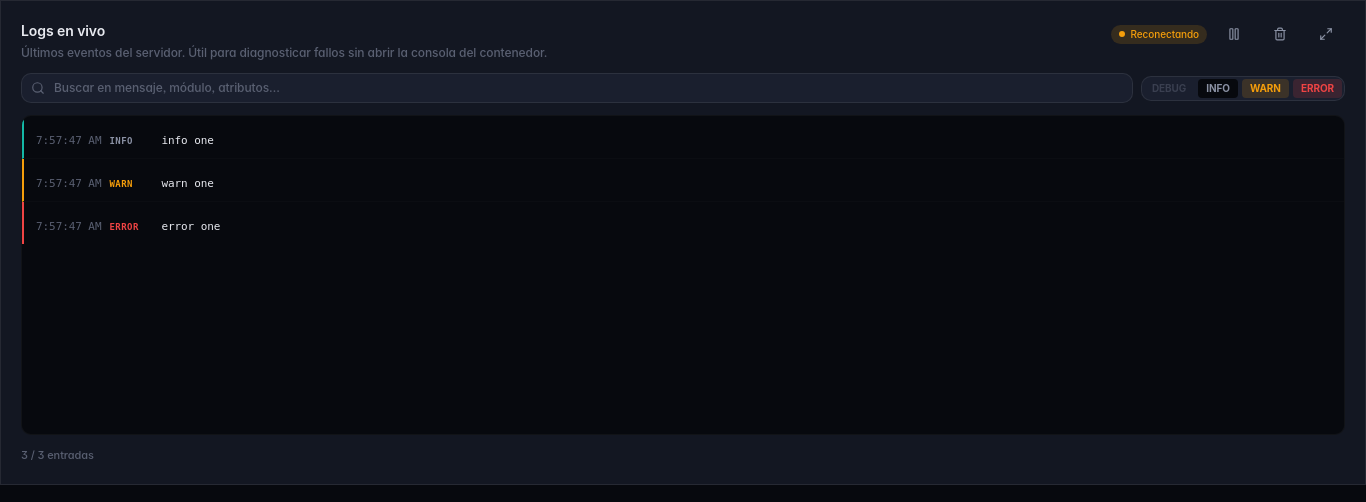
Scenario: LogsPanel pause / drain › toggling INFO/WARN off leaves only ERROR entries visible
Click the button "INFO". click: click(1218, 88)
box: [1198, 78, 1238, 98]
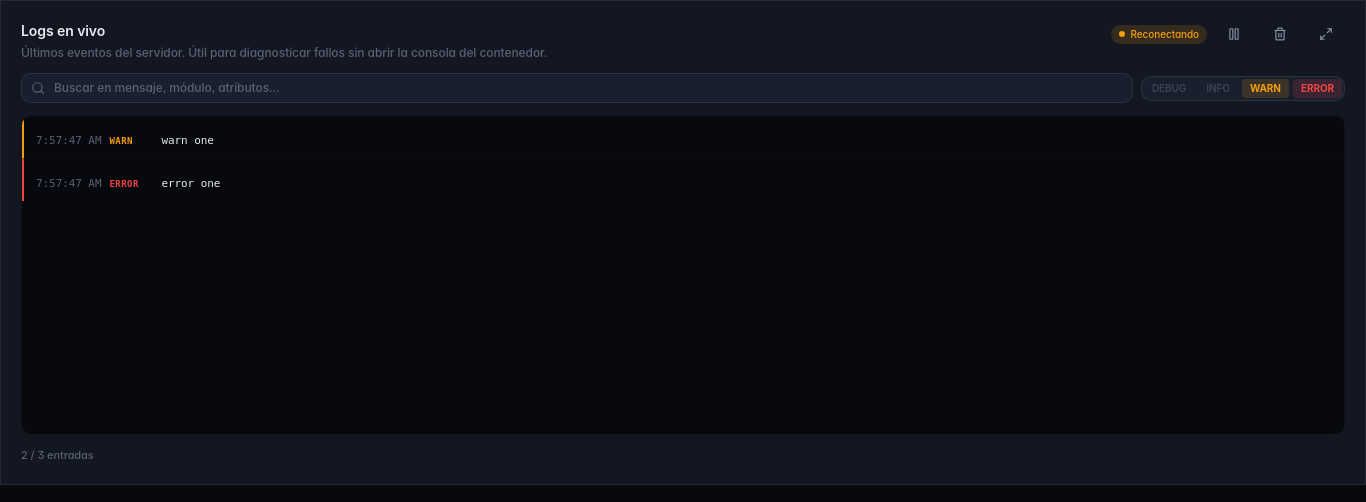
Click the button "WARN". click: click(1265, 88)
box: [1242, 78, 1289, 98]
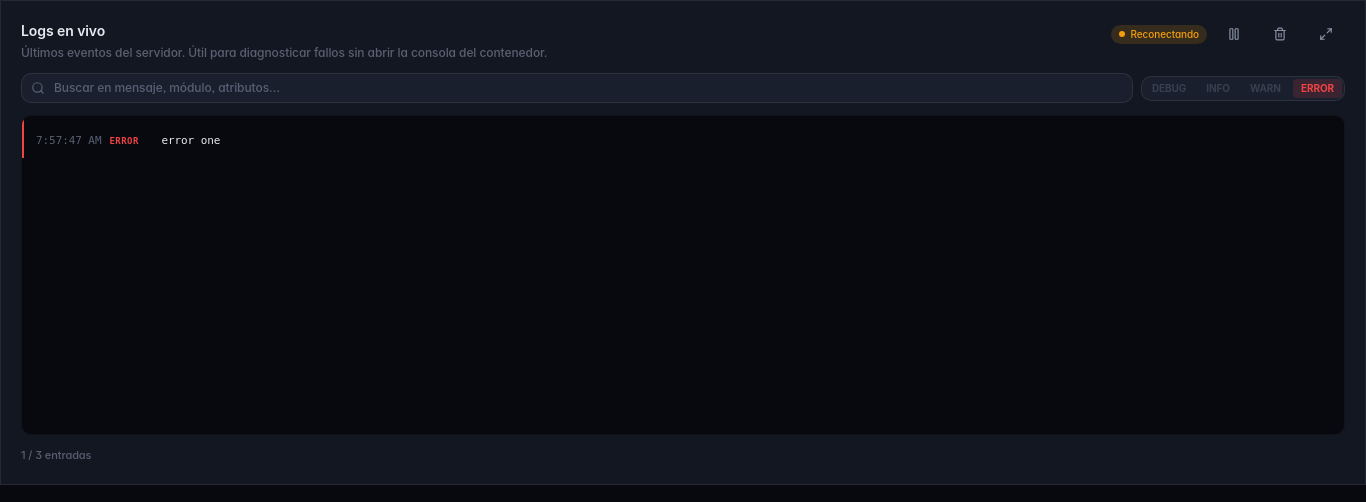
Expected: the button "info one" is not shown
Expected: the button "warn one" is gone
